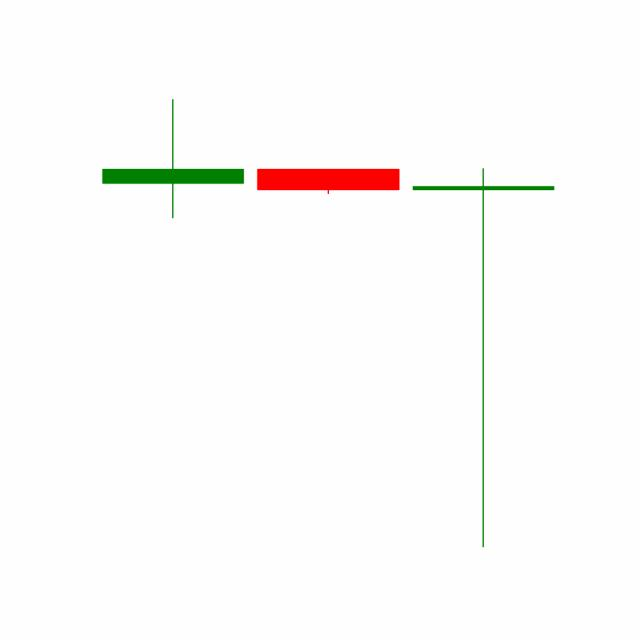Marubozu: (249, 168, 406, 194)
